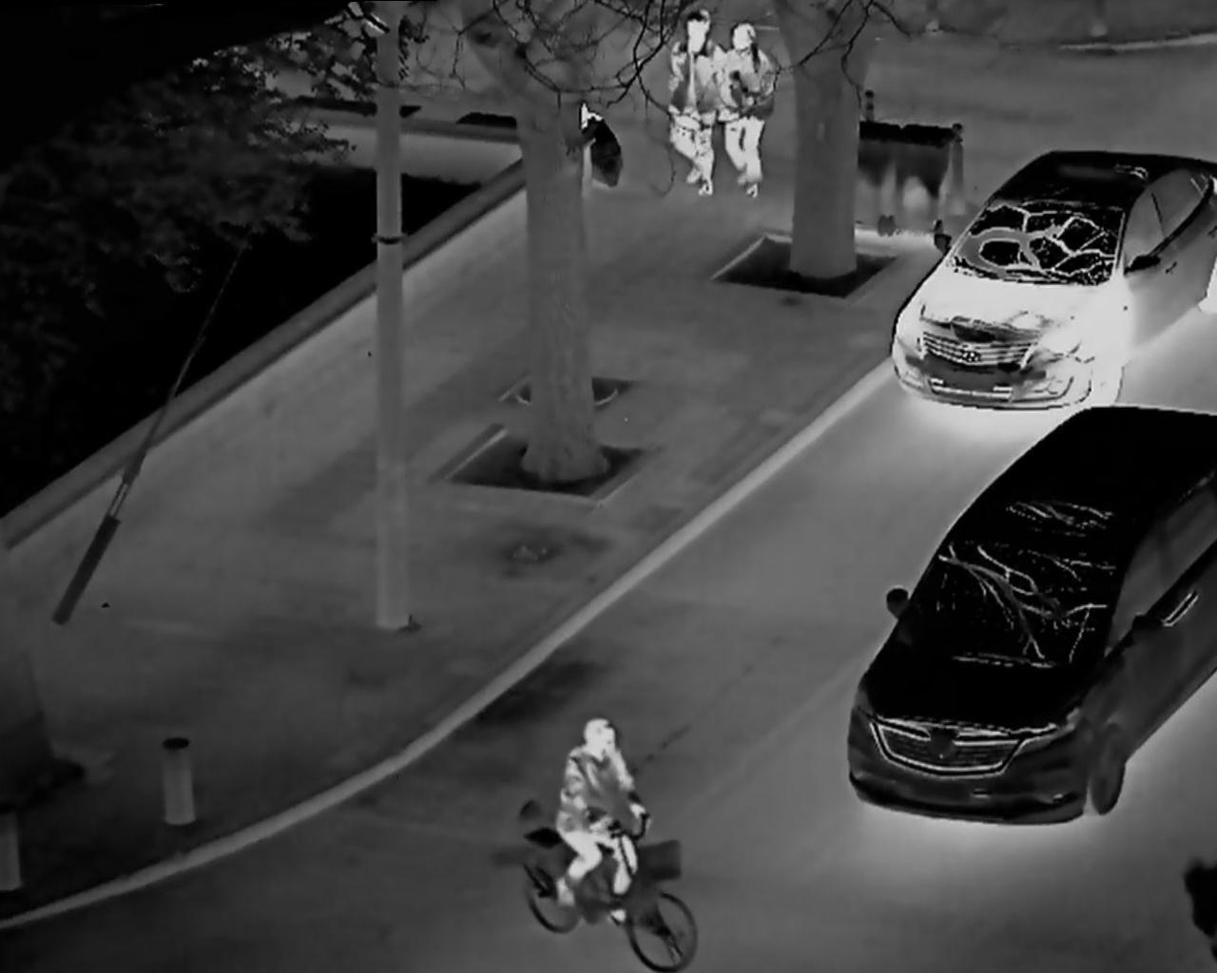person: (538, 696, 660, 939), (665, 5, 724, 194), (718, 15, 775, 209)
